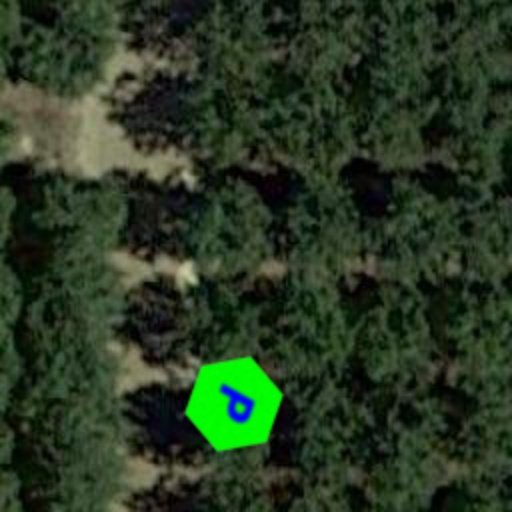hexagon: (168, 338, 300, 470)
